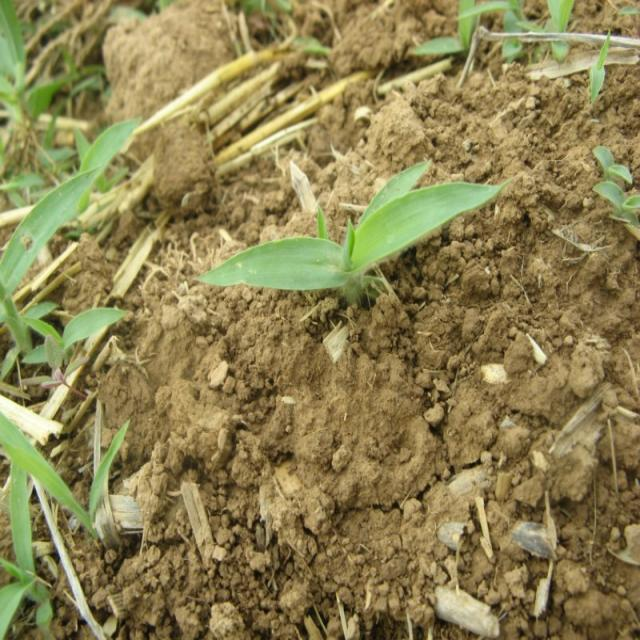bg: (203, 170, 494, 312)
